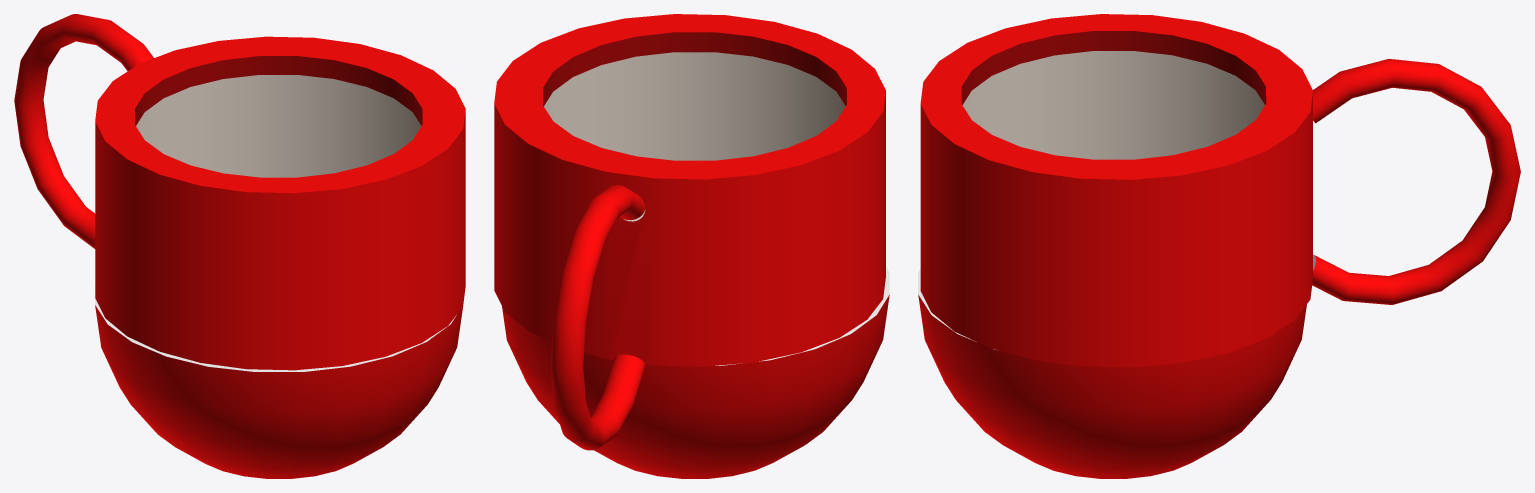
The picture shows the model from 3 angles, left to right: view 1: azimuth 30°, elevation 25°; view 2: azimuth 150°, elevation 25°; view 3: azimuth 270°, elevation 25°; orthographic projection. The views are drawn at different scales.
Visible parts, largest first — view 1: mesh2_mesh2-geometry, mesh1_mesh1-geometry_1, mesh2_mesh2-geometry_1, mesh2_mesh2-geometry_3, mesh2_mesh2-geometry_2, mesh1_mesh1-geometry; view 2: mesh2_mesh2-geometry, mesh1_mesh1-geometry_1, mesh2_mesh2-geometry_1, mesh2_mesh2-geometry_3, mesh2_mesh2-geometry_2, mesh1_mesh1-geometry; view 3: mesh2_mesh2-geometry, mesh1_mesh1-geometry_1, mesh2_mesh2-geometry_1, mesh2_mesh2-geometry_3, mesh2_mesh2-geometry_2.
Part boxes in pixels (x1,y1,x2,y2): mesh2_mesh2-geometry: [14, 14, 465, 370]; mesh1_mesh1-geometry_1: [95, 305, 462, 478]; mesh2_mesh2-geometry_1: [136, 75, 421, 177]; mesh2_mesh2-geometry_3: [136, 75, 420, 176]; mesh2_mesh2-geometry_2: [135, 56, 422, 125]; mesh1_mesh1-geometry: [95, 284, 456, 371]; mesh2_mesh2-geometry: [494, 14, 885, 450]; mesh1_mesh1-geometry_1: [502, 295, 889, 478]; mesh2_mesh2-geometry_1: [544, 52, 845, 221]; mesh2_mesh2-geometry_3: [544, 53, 844, 220]; mesh2_mesh2-geometry_2: [543, 32, 846, 105]; mesh1_mesh1-geometry: [715, 267, 889, 365]; mesh2_mesh2-geometry: [920, 14, 1520, 367]; mesh1_mesh1-geometry_1: [918, 295, 1306, 478]; mesh2_mesh2-geometry_1: [962, 51, 1315, 270]; mesh2_mesh2-geometry_3: [963, 51, 1264, 158]; mesh2_mesh2-geometry_2: [961, 31, 1266, 104].
Size of the model in its own units: 0.4744 by 0.501 by 0.7239.
